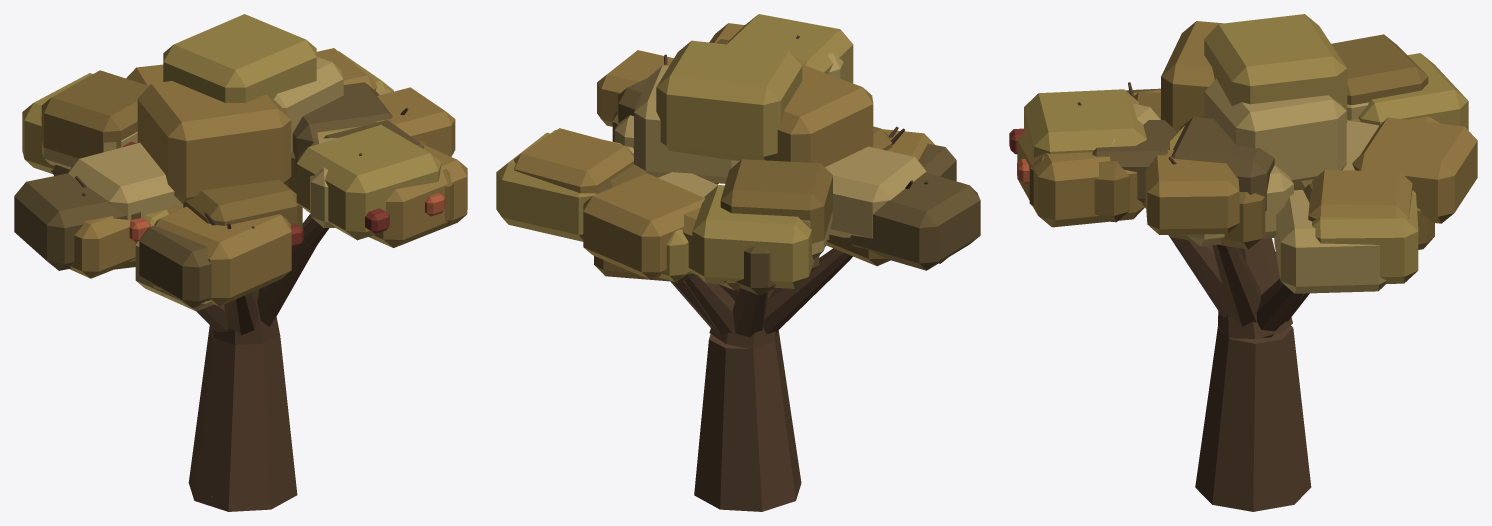
File: apple_mature_autumn_fruiting_3.glb
The picture shows the model from 3 angles, left to right: view 1: azimuth 30°, elevation 25°; view 2: azimuth 150°, elevation 25°; view 3: azimuth 270°, elevation 25°; orthographic projection. The views are drawn at different scales.
Visible parts, largest first — view 1: apple_mature_autumn_fruiting_3; view 2: apple_mature_autumn_fruiting_3; view 3: apple_mature_autumn_fruiting_3.
Boxes of the visible parts, x1,y1,x2,y2 form: apple_mature_autumn_fruiting_3: (14, 14, 467, 511); apple_mature_autumn_fruiting_3: (496, 14, 980, 511); apple_mature_autumn_fruiting_3: (1009, 14, 1477, 511).
Size of the model in its own units: 11.57 by 12 by 11.3.
